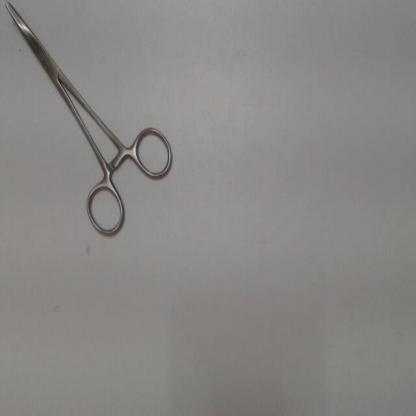Crile Artery Forceps: (2, 0, 177, 243)
